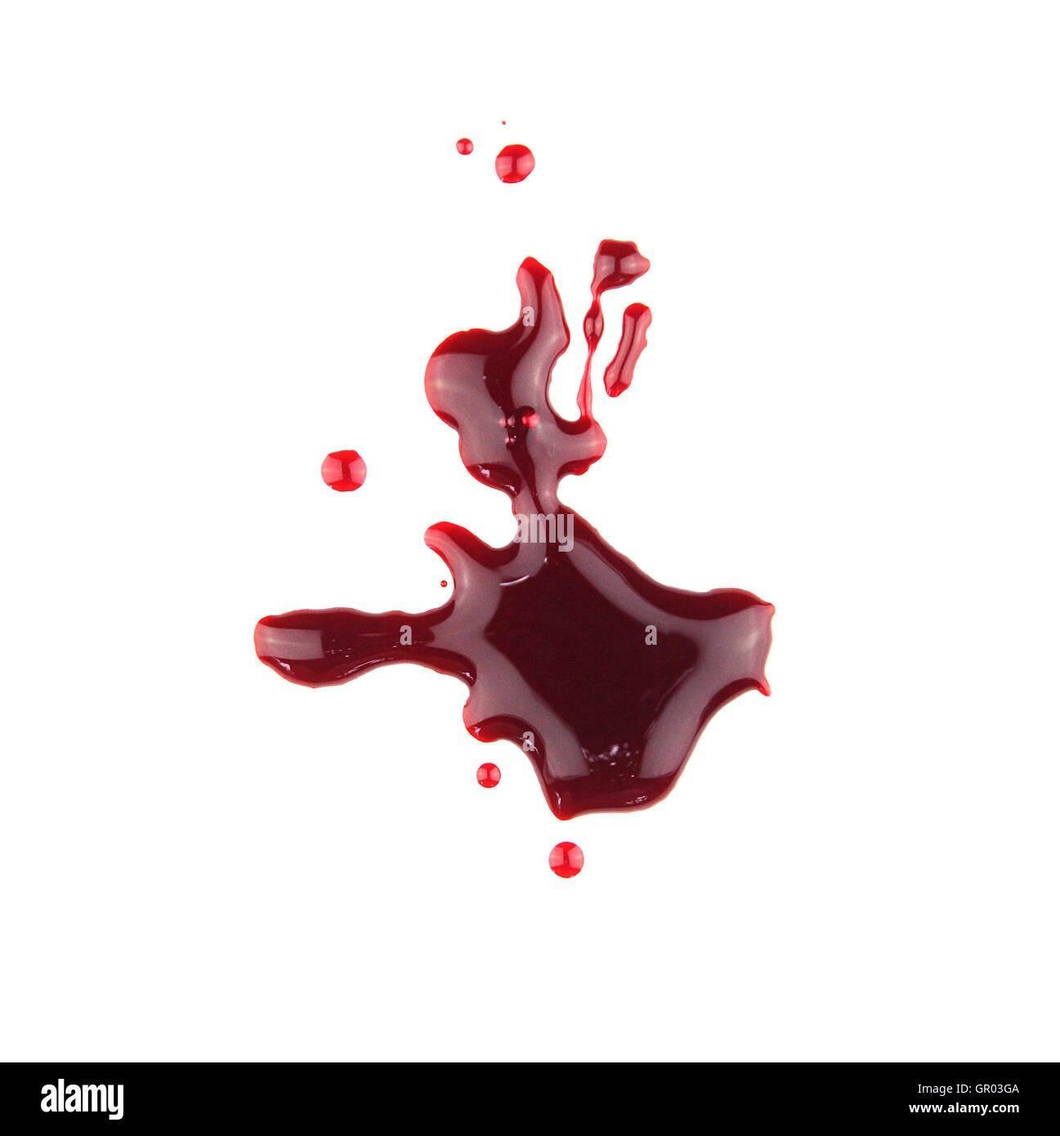Bloodstain-Detection: (251, 303, 768, 816)
